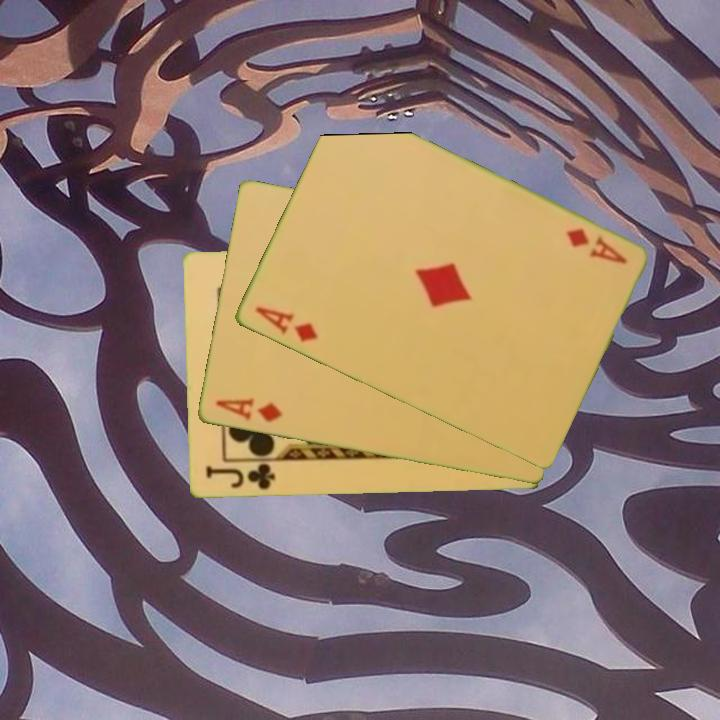Ad: (251, 303, 320, 346), (562, 225, 630, 267), (212, 394, 285, 425)
Jc: (202, 460, 277, 493)
